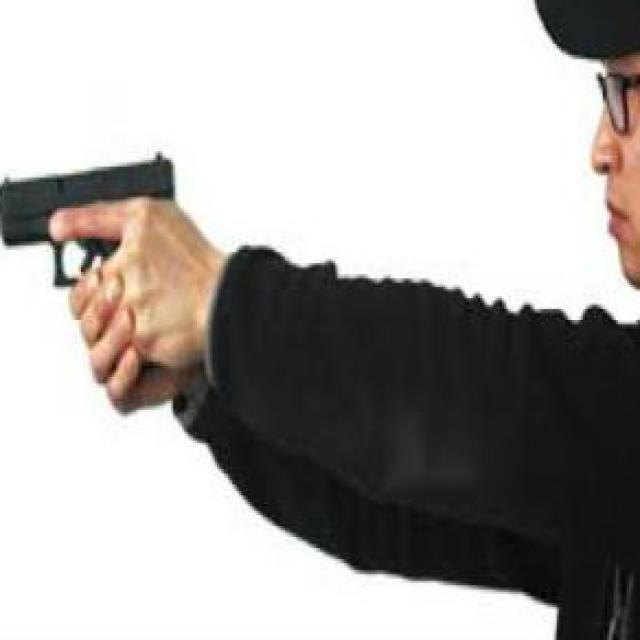pistol: (0, 140, 178, 384)
